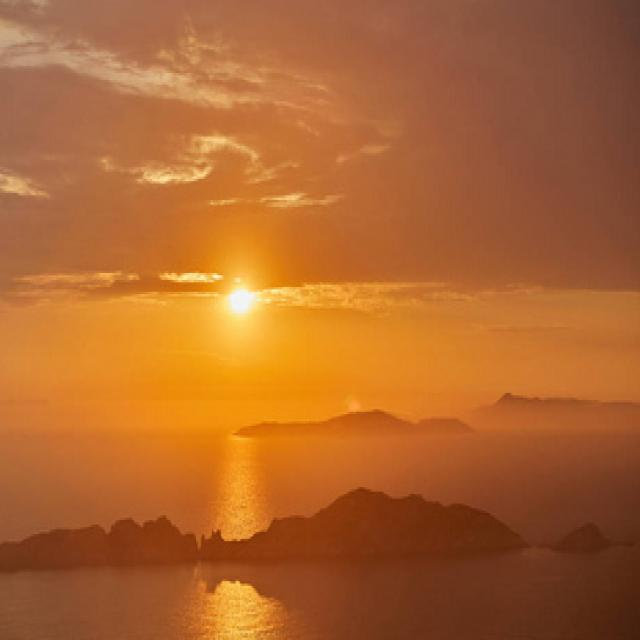island: (0, 473, 604, 586)
